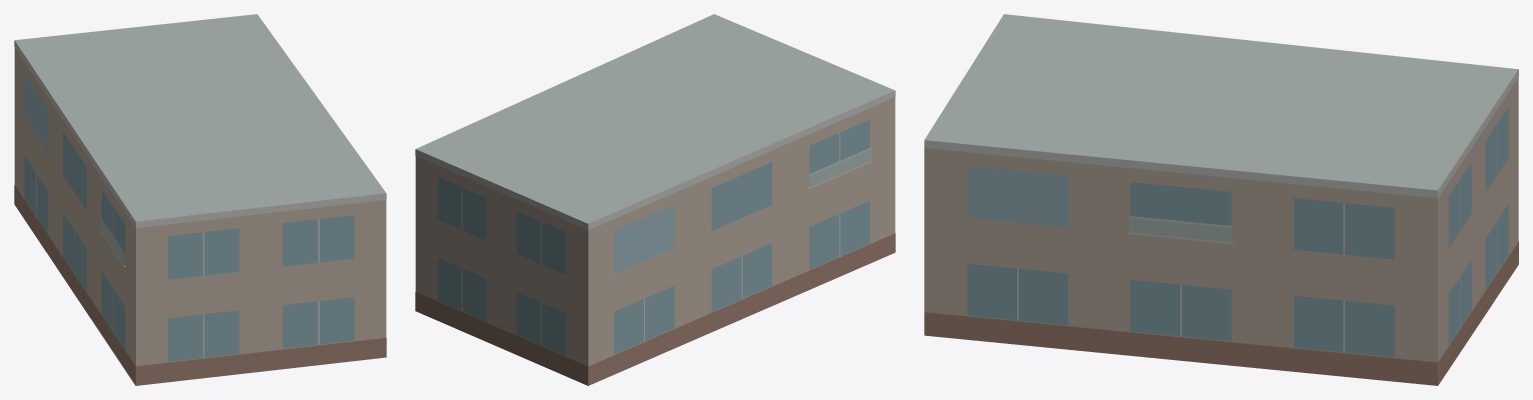
File: survey-upis-32986603.glb
3 renders of one model, left to right at view 1: azimuth 30°, elevation 25°; view 2: azimuth 150°, elevation 25°; view 3: azimuth 270°, elevation 25°, orthographic. The views are drawn at different scales.
Parts seen in each view (by area): view 1: survey-upis-32986603.tmp; view 2: survey-upis-32986603.tmp; view 3: survey-upis-32986603.tmp.
Part boxes in pixels (x1=…): survey-upis-32986603.tmp: x1=14, y1=14, x2=386, y2=385; survey-upis-32986603.tmp: x1=415, y1=14, x2=895, y2=385; survey-upis-32986603.tmp: x1=924, y1=14, x2=1518, y2=385.
Size of the model in its own units: 11.83 by 6.1 by 16.83.
